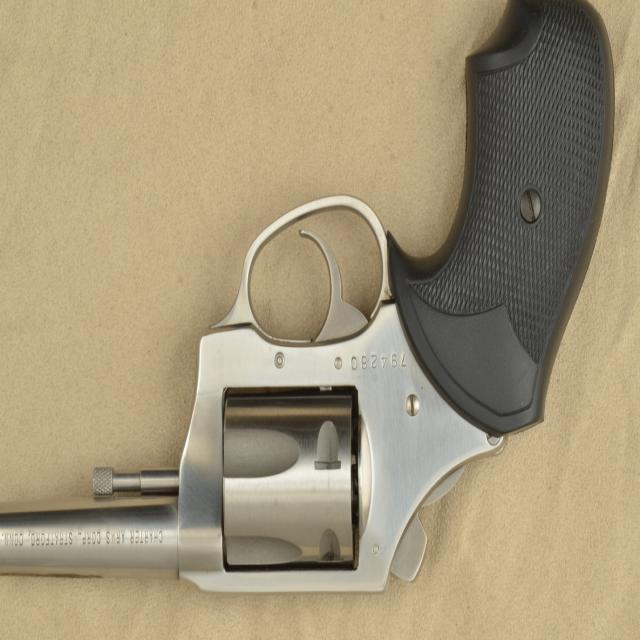Gun: (0, 0, 617, 612)
